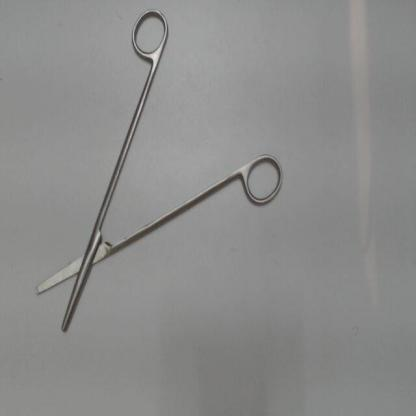9 Metzenbaum Scissors: (33, 2, 292, 339)
